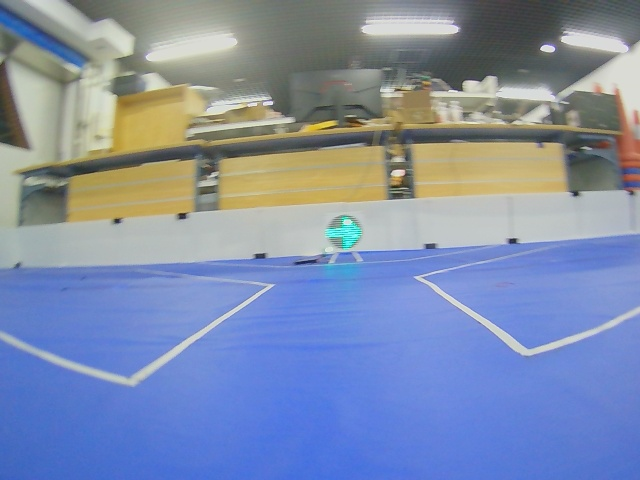right_green: (325, 215, 363, 250)
